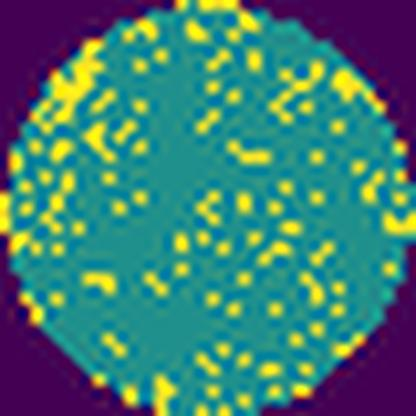Edge-Loc: (19, 34, 110, 137), (374, 208, 415, 241)
